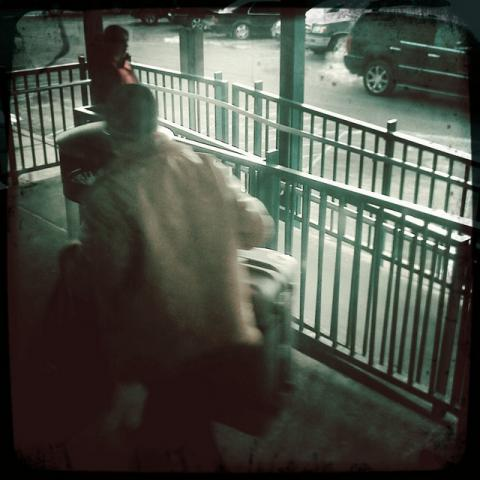car: (343, 13, 476, 103), (270, 1, 372, 53), (203, 1, 280, 40), (127, 1, 173, 26)
truck: (345, 11, 465, 98)
